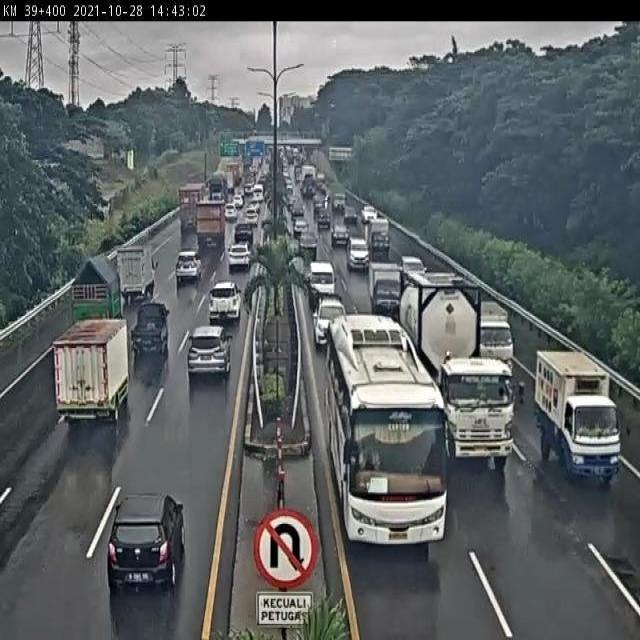big truck: (196, 203, 225, 253)
bus-l-: (324, 309, 450, 556)
car: (108, 491, 187, 593), (186, 324, 229, 377), (312, 296, 348, 349), (208, 281, 242, 320), (307, 263, 338, 305), (400, 253, 427, 288), (176, 251, 202, 284), (347, 237, 371, 272), (229, 240, 250, 265), (236, 219, 257, 240)
small truck: (52, 316, 133, 424), (475, 301, 521, 383), (71, 256, 119, 327), (129, 302, 172, 358), (116, 248, 156, 297)
truck-s-: (534, 350, 630, 490), (370, 262, 401, 314)
truck-xl-: (398, 275, 527, 493)
